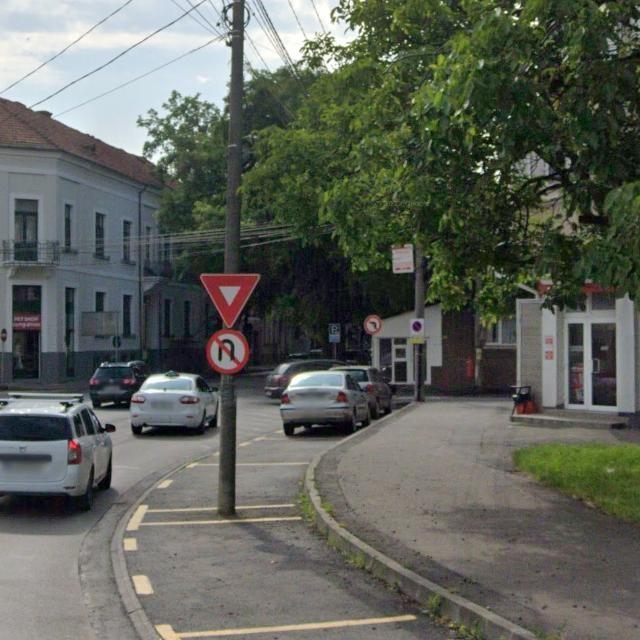prio_give_way: (200, 273, 261, 328)
